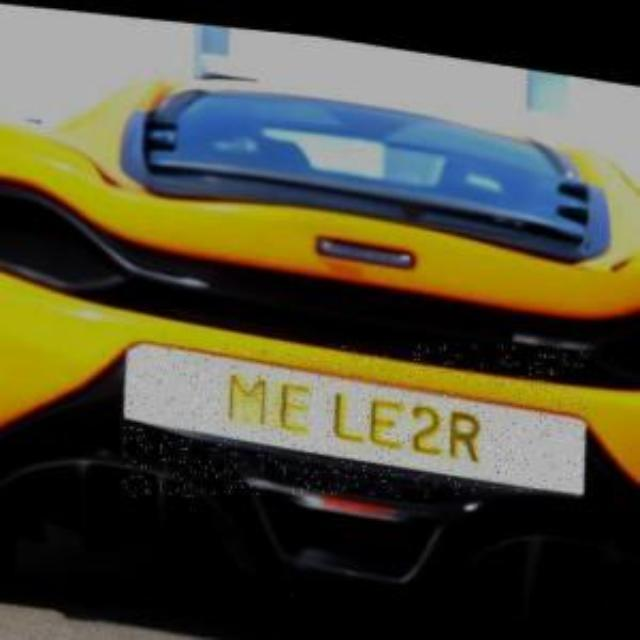License Plate: (123, 345, 588, 496)
